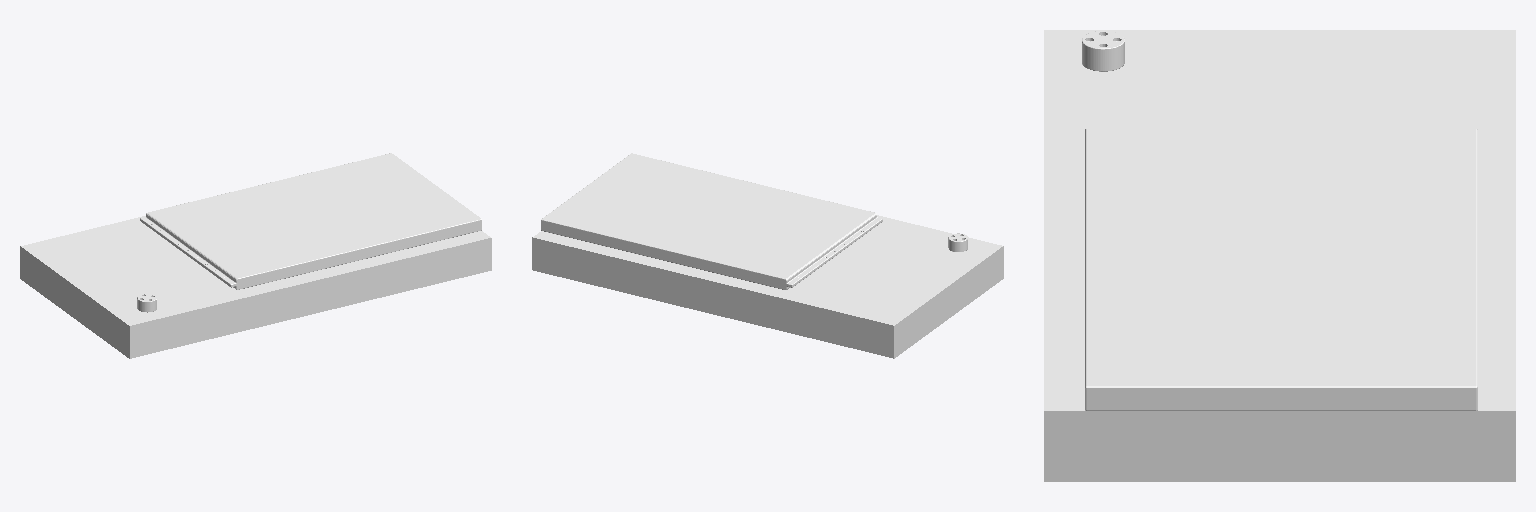
URDF robot description (battery_pack):
<?xml version="1.0" encoding="utf-8"?>
<!-- This URDF was automatically created by SolidWorks to URDF Exporter! Originally created by [author] ([email redacted]) 
     Commit Version: 1.6.0-4-g7f85cfe  Build Version: 1.6.7995.38578
     For more information, please see http://wiki.ros.org/sw_urdf_exporter -->
<robot
  name="battery_pack">
  <link
    name="battery_pack_base_link">
    <inertial>
      <origin
        xyz="0.84044 0.00074552 -0.074795"
        rpy="0 0 0" />
      <mass
        value="590.19" />
      <inertia
        ixx="68.422"
        ixy="0.00076184"
        ixz="6.1688E-09"
        iyy="184.41"
        iyz="1.9859E-09"
        izz="249.54" />
    </inertial>
    <visual>
      <origin
        xyz="0 0 0"
        rpy="0 0 0" />
      <geometry>
        <mesh
          filename="package://battery_pack/meshes/battery_pack_base_link.STL" />
      </geometry>
      <material
        name="">
        <color
          rgba="1 1 1 1" />
      </material>
    </visual>
    <collision>
      <origin
        xyz="0 0 0"
        rpy="0 0 0" />
      <geometry>
        <mesh
          filename="package://battery_pack/meshes/battery_pack_base_link.STL" />
      </geometry>
    </collision>
  </link>
  <link
    name="sleeve_plate_Link">
    <inertial>
      <origin
        xyz="-0.00050862 0.00023684 -0.033553"
        rpy="0 0 0" />
      <mass
        value="0.55816" />
      <inertia
        ixx="0.00063064"
        ixy="-8.4486E-08"
        ixz="7.1611E-07"
        iyy="0.00062086"
        iyz="-3.0849E-07"
        izz="0.000857" />
    </inertial>
    <visual>
      <origin
        xyz="0 0 0"
        rpy="0 0 0" />
      <geometry>
        <mesh
          filename="package://battery_pack/meshes/sleeve_plate_Link.STL" />
      </geometry>
      <material
        name="">
        <color
          rgba="1 1 1 1" />
      </material>
    </visual>
    <collision>
      <origin
        xyz="0 0 0"
        rpy="0 0 0" />
      <geometry>
        <mesh
          filename="package://battery_pack/meshes/sleeve_plate_Link.STL" />
      </geometry>
    </collision>
  </link>
  <joint
    name="sleeve_plate_Joint"
    type="fixed">
    <origin
      xyz="0 -0.45 0.065"
      rpy="0 0 0" />
    <parent
      link="battery_pack_base_link" />
    <child
      link="sleeve_plate_Link" />
    <axis
      xyz="0 0 1" />
  </joint>
</robot>

--- Facts derived from the render (not from the file) ---
Views: 3 orthographic renders of the robot side by side, from view 1: azimuth 30°, elevation 25°; view 2: azimuth 150°, elevation 25°; view 3: azimuth 270°, elevation 25°.
Robot: battery_pack — 2 links, 1 joints (1 fixed); root link battery_pack_base_link; default pose: all joints at 0.
Visible links, largest first — view 1: battery_pack_base_link; view 2: battery_pack_base_link; view 3: battery_pack_base_link, sleeve_plate_Link.
Boxes of the visible links, x1=… form: battery_pack_base_link: x1=20, y1=153, x2=491, y2=358; battery_pack_base_link: x1=532, y1=153, x2=1003, y2=358; battery_pack_base_link: x1=1044, y1=30, x2=1515, y2=481; sleeve_plate_Link: x1=1082, y1=31, x2=1124, y2=71.
Size in the robot's own frame: 2.3 by 1.2 by 0.27 metres.
Meshes: 2 distinct files referenced, 2 mesh visuals loaded (2 binary STL).